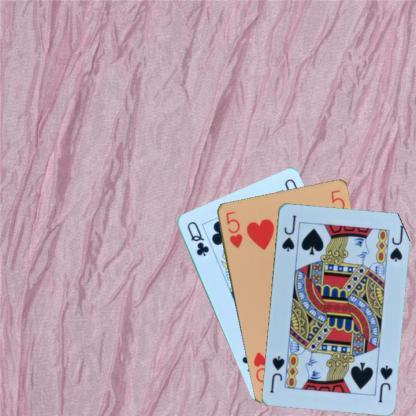5h: (223, 208, 244, 249)
Js: (375, 362, 393, 404), (280, 212, 298, 252)
Qc: (184, 218, 210, 258)
